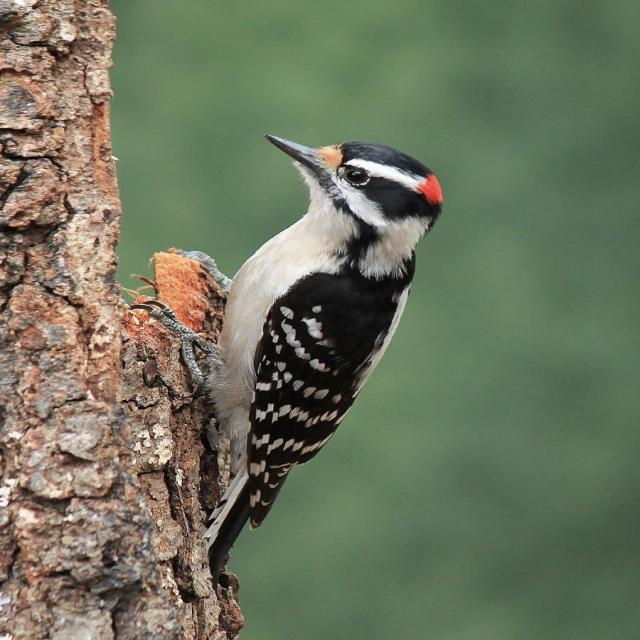Woodpecker: (160, 101, 454, 604)
